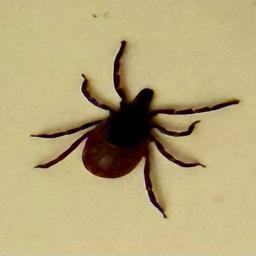Ixodes scapularis: (29, 41, 240, 217)
